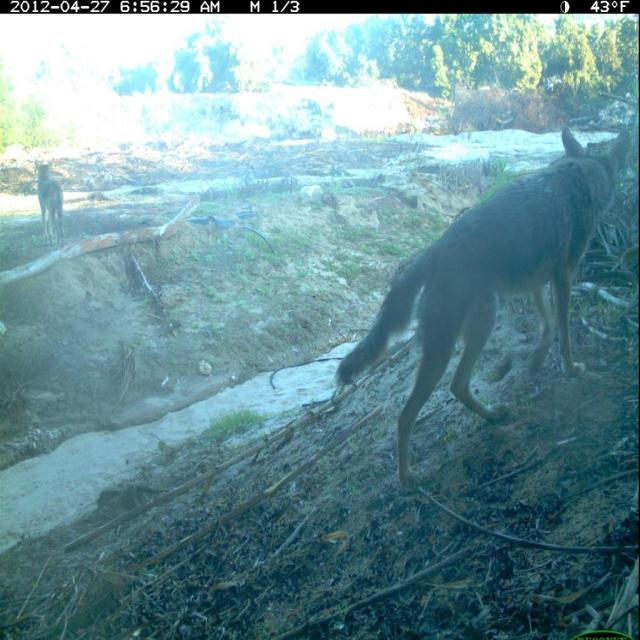coyote: (328, 120, 635, 494), (33, 156, 68, 253)
